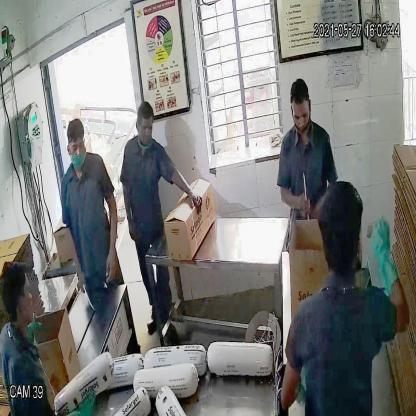no_goggles: (63, 138, 92, 158), (289, 102, 313, 126)
